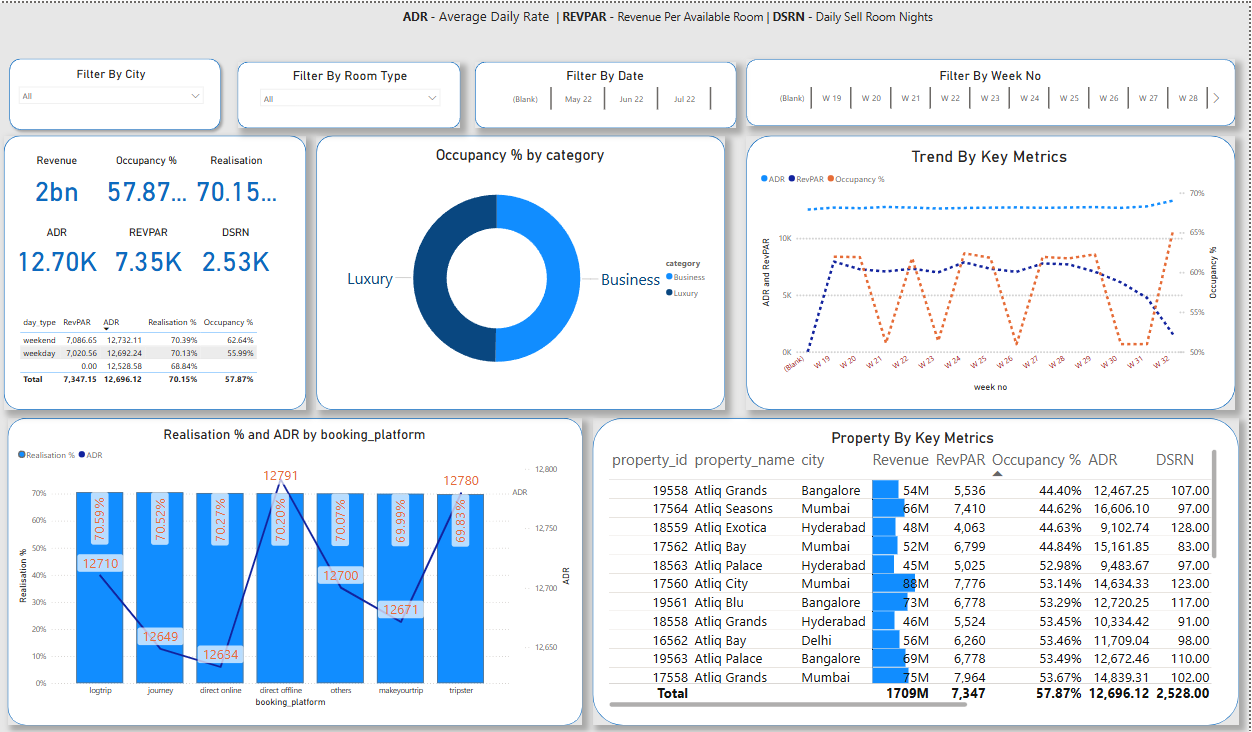

This screenshot's page, from the dashboard's own definition file:
{"tool":"powerbi","page":{"name":"Page 1","canvas":[2000,1170],"ordinal":0},"visuals":[{"type":"shape","box":[12.8,664.4,920,492],"z":1000},{"type":"shape","box":[948.8,664.4,1034,492],"z":2000},{"type":"shape","box":[1194.3,212.9,782.8,439],"z":3000},{"type":"lineChart","title":"Trend By Key Metrics","fields":{"Category":["dim_date.week no","dim_date.mmm yy.Variation.Date Hierarchy.Month"],"Y":["key_measure (2).ADR","key_measure (2).RevPAR"],"Y2":["key_measure (2).Occupancy %"]},"box":[1211.1,229.7,741.7,397.9],"z":4000},{"type":"shape","box":[506.8,212.9,653.9,439],"z":5000},{"type":"shape","box":[6.1,212.9,483.9,439],"z":6000},{"type":"shape","box":[1194.3,89.6,782.8,106.5],"z":7000},{"type":"shape","box":[759,93.3,418.5,106.5],"z":8000},{"type":"shape","box":[379.8,93.3,356.8,106.5],"z":9000},{"type":"shape","box":[6,80,356,132],"z":10000},{"type":"tableEx","title":"Property By Key Metrics","fields":{"Values":["dim_hotel.property_id","dim_hotel.property_name","dim_hotel.city","key_measure (2).Revenue","key_measure (2).RevPAR","key_measure (2).Occupancy %","key_measure (2).ADR","key_measure (2).DSRN","key_measure (2).DBRN","key_measure (2).DURN","key_measure (2).Realisation %","key_measure (2).Cancellation %"]},"box":[968.8,682.4,984,450],"z":11000},{"type":"slicer","title":"Filter By City","fields":{"Values":["dim_hotel.city"]},"box":[19.2,102.7,315.7,74.7],"z":12000},{"type":"slicer","title":"Filter By Room Type","fields":{"Values":["dim_rooms.room_class"]},"box":[405.9,104.6,308.3,84.1],"z":13000},{"type":"slicer","title":"Filter By Date","fields":{"Values":["dim_date.mmm yy"]},"box":[773.5,103.4,388.3,73.3],"z":14000},{"type":"slicer","title":"Filter By Week No","fields":{"Values":["dim_date.week no"]},"box":[1211.8,103.4,745,71.7],"z":15000},{"type":"card","title":"Revenue","fields":{"Values":["key_measure (2).Revenue"]},"box":[15.5,242.8,149.5,91.5],"z":16000},{"type":"card","title":"Occupancy %","fields":{"Values":["key_measure (2).Occupancy %"]},"box":[164.9,242.8,140.1,91.5],"z":17000},{"type":"donutChart","fields":{"Category":["dim_hotel.category"],"Y":["key_measure (2).Occupancy %"]},"box":[520.8,228.4,624,398],"z":18000},{"type":"card","title":"ADR","fields":{"Values":["key_measure (2).ADR"]},"box":[15.5,356.8,149.5,85.9],"z":19000},{"type":"card","title":"REVPAR","fields":{"Values":["key_measure (2).RevPAR"]},"box":[170.5,356.8,134.5,85.9],"z":20000},{"type":"card","title":"DSRN","fields":{"Values":["key_measure (2).DSRN"]},"box":[305.1,356.8,142,85.9],"z":21000},{"type":"lineStackedColumnComboChart","fields":{"Category":["fact_bookings.booking_platform"],"Y":["key_measure (2).Realisation %"],"Y2":["key_measure (2).ADR"]},"box":[24.8,678.4,894,454],"z":22000},{"type":"tableEx","fields":{"Values":["dim_date.day_type","key_measure (2).RevPAR","key_measure (2).ADR","key_measure (2).Realisation %","key_measure (2).Occupancy %"]},"box":[25.1,493.4,446.7,158.3],"z":23000},{"type":"card","title":"Realisation","fields":{"Values":["key_measure (2).Realisation %"]},"box":[308.8,242.4,140,92],"z":24000},{"type":"textbox","box":[6,0,1994,80],"z":25000}]}

Visuals, with their boxes in screenshot pixels (x1, y1, x2, y2), scaled from the page's 2000x1170 canvas onto the 1252x732 screenshot:
shape: bbox=(8, 416, 584, 723)
shape: bbox=(594, 416, 1241, 723)
shape: bbox=(748, 133, 1238, 408)
"Trend By Key Metrics" lineChart: bbox=(758, 144, 1222, 393)
shape: bbox=(317, 133, 727, 408)
shape: bbox=(4, 133, 307, 408)
shape: bbox=(748, 56, 1238, 123)
shape: bbox=(475, 58, 737, 125)
shape: bbox=(238, 58, 461, 125)
shape: bbox=(4, 50, 227, 133)
"Property By Key Metrics" tableEx: bbox=(606, 427, 1222, 708)
"Filter By City" slicer: bbox=(12, 64, 210, 111)
"Filter By Room Type" slicer: bbox=(254, 65, 447, 118)
"Filter By Date" slicer: bbox=(484, 65, 727, 111)
"Filter By Week No" slicer: bbox=(759, 65, 1225, 110)
"Revenue" card: bbox=(10, 152, 103, 209)
"Occupancy %" card: bbox=(103, 152, 191, 209)
donutChart - dim_hotel.category x key_measure (2).Occupancy %: bbox=(326, 143, 717, 392)
"ADR" card: bbox=(10, 223, 103, 277)
"REVPAR" card: bbox=(107, 223, 191, 277)
"DSRN" card: bbox=(191, 223, 280, 277)
lineStackedColumnComboChart - fact_bookings.booking_platform x key_measure (2).Realisation %: bbox=(16, 424, 575, 708)
tableEx - dim_date.day_type x key_measure (2).RevPAR: bbox=(16, 309, 295, 408)
"Realisation" card: bbox=(193, 152, 281, 209)
textbox: bbox=(4, 0, 1251, 50)
